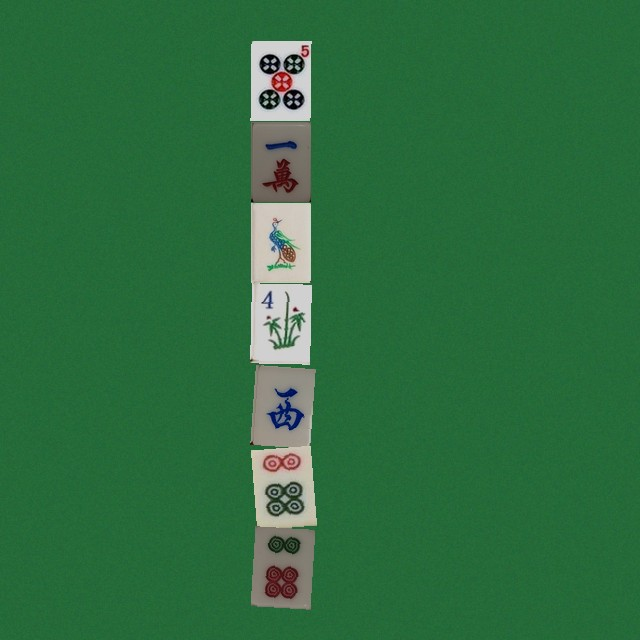tile: (250, 40, 310, 120), (250, 121, 310, 201), (250, 202, 310, 282), (250, 283, 310, 363), (250, 364, 310, 444), (250, 445, 310, 525), (250, 526, 310, 606)
